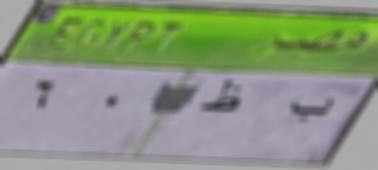0: (96, 88, 124, 121)
6: (30, 76, 58, 118)
Thaa: (201, 77, 246, 118)
baa: (287, 92, 335, 131)
